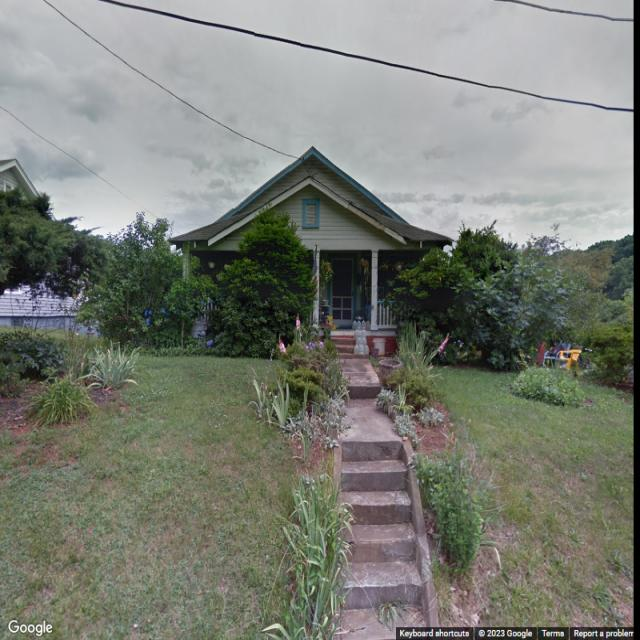House: (168, 146, 455, 350)
